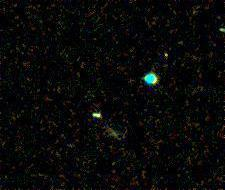star: (160, 37, 190, 67)
